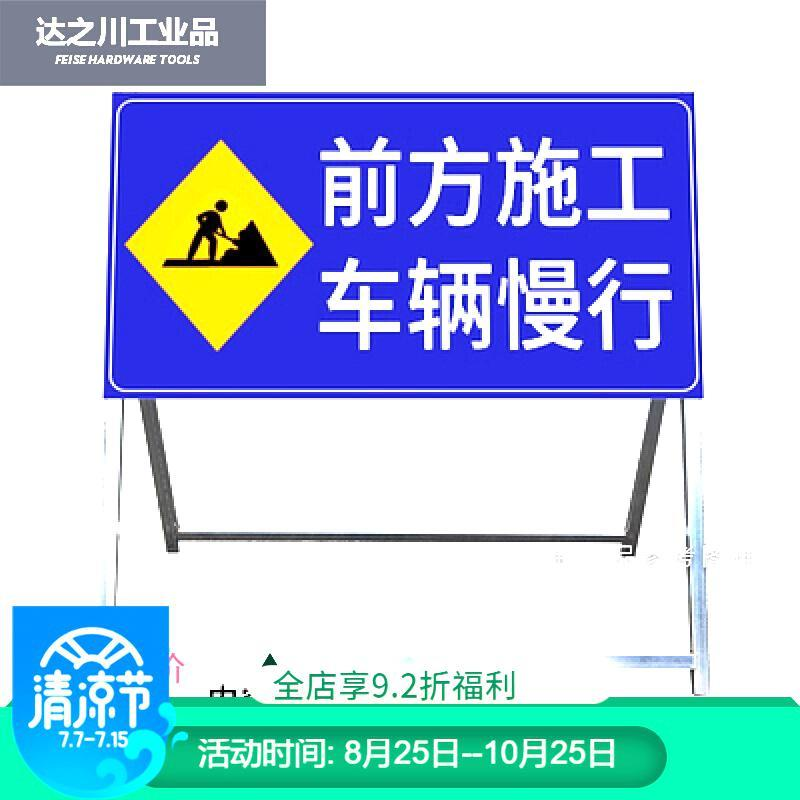sign: (108, 92, 703, 400)
